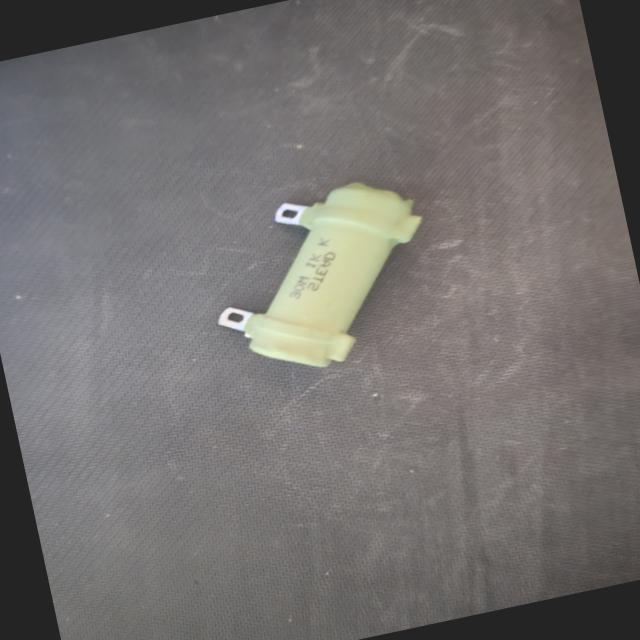resistor: (187, 156, 454, 394)
